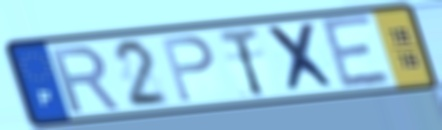2: (112, 37, 172, 110)
E: (316, 13, 395, 93)
P: (157, 33, 216, 105)
R: (46, 43, 124, 116)
T: (215, 24, 267, 100)
X: (261, 20, 342, 95)
